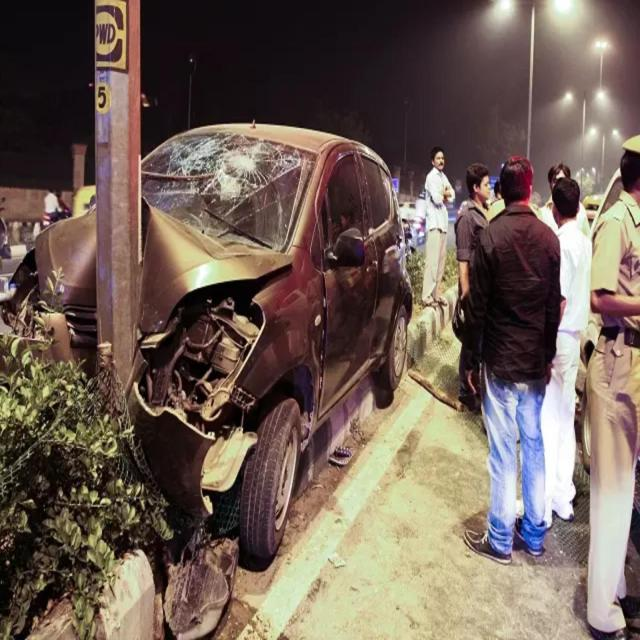accident: (130, 124, 412, 562)
